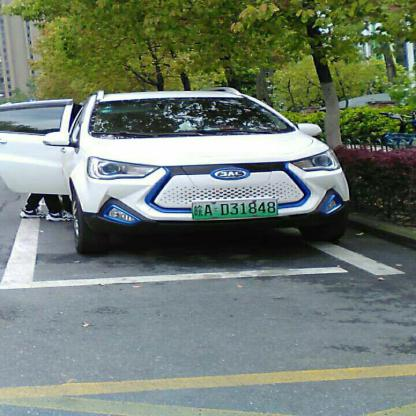lp: (192, 198, 278, 219)
